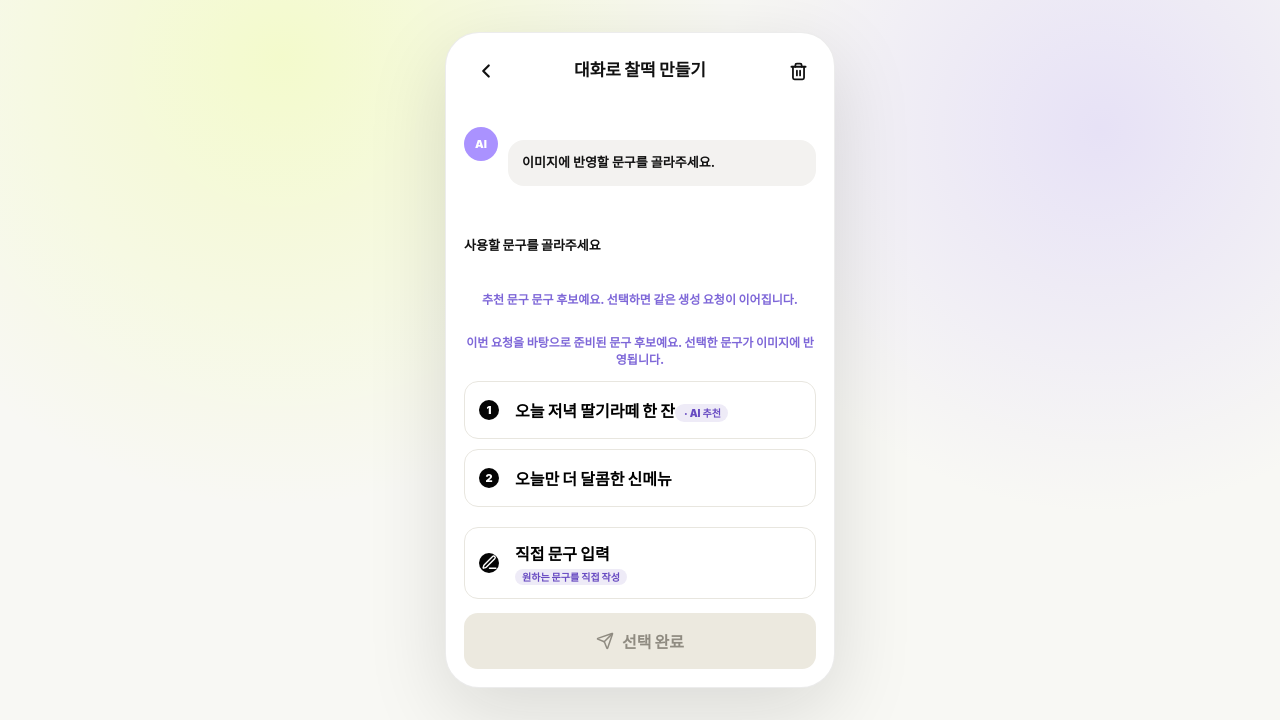
Test case: ChatGenerateClient › keeps restored final generation copy selection on the result path even without source metadata
The image size is (1280, 720).
Check: the heading "사용할 문구를 골라주세요" is shown, box [464,236,601,252]
Click the button with aria-label "오늘만 더 달콤한 신메뉴 선택" at {"x": 640, "y": 478}, box [464,448,816,506]
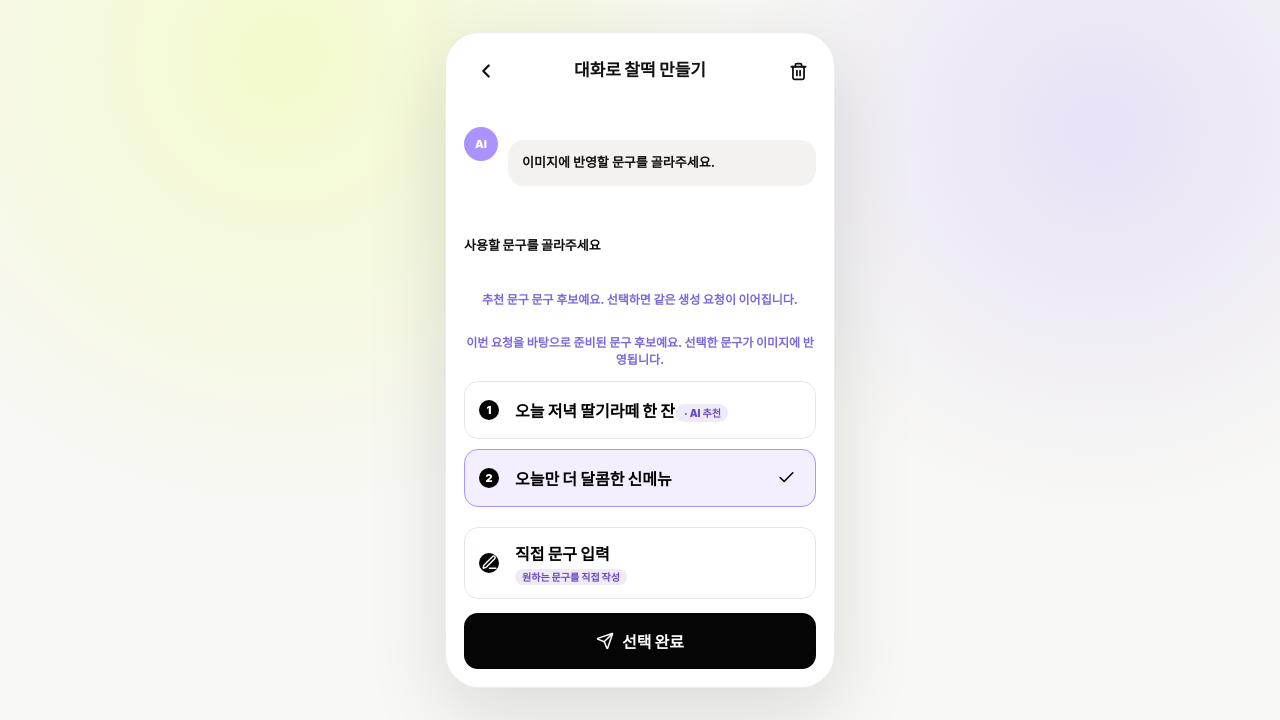
Click the button "선택 완료" at {"x": 640, "y": 640}, box [464,612,816,668]
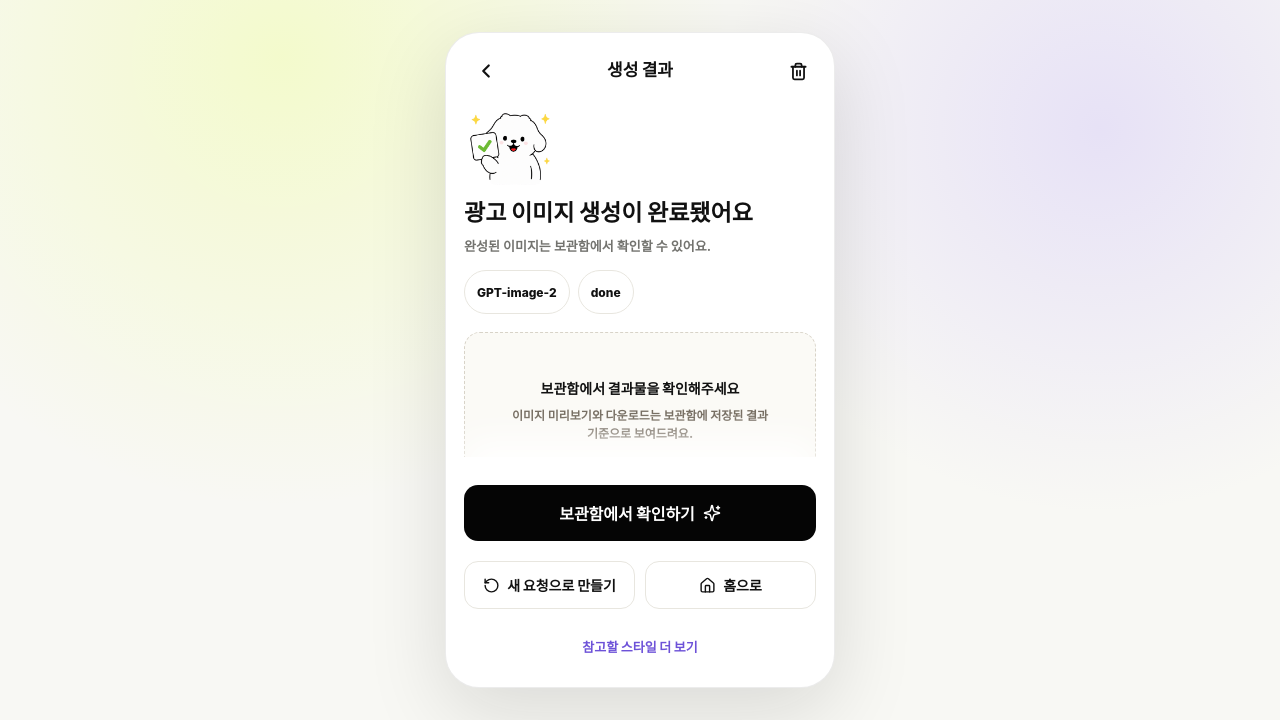
Check: the heading "광고 이미지 생성이 완료됐어요" is shown, box [464,199,753,227]
